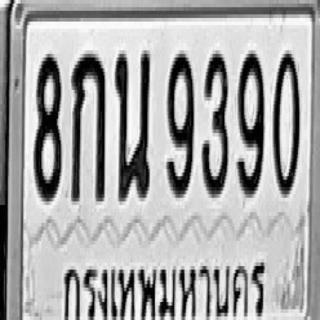A01: (70, 50, 105, 201)
A25: (114, 47, 150, 201)
N00: (272, 48, 299, 196)
N03: (201, 50, 228, 198)
N08: (33, 50, 61, 201)
N09: (166, 50, 194, 198), (237, 50, 264, 198)
P04: (60, 246, 269, 320)
